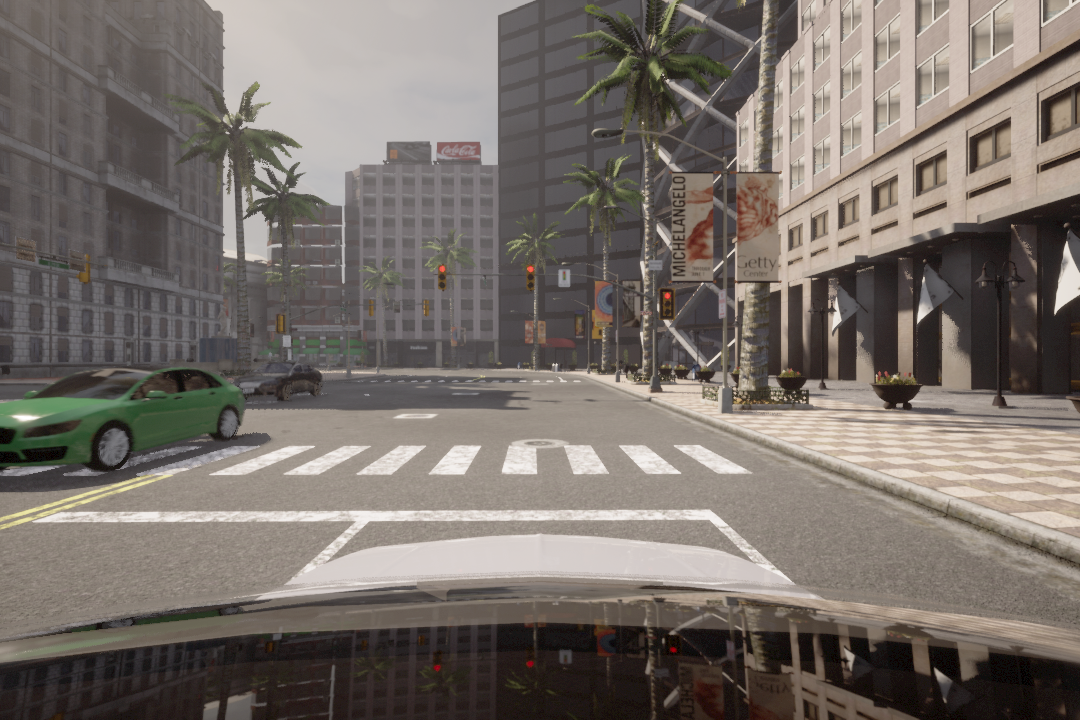TrafficLight: (660, 289, 672, 319), (526, 263, 537, 294), (437, 262, 447, 290)
walkside: (4, 439, 764, 481)
